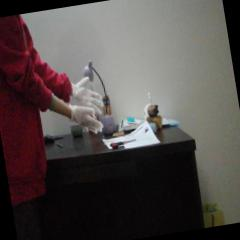gloved: (70, 76, 106, 112), (70, 99, 104, 137)
